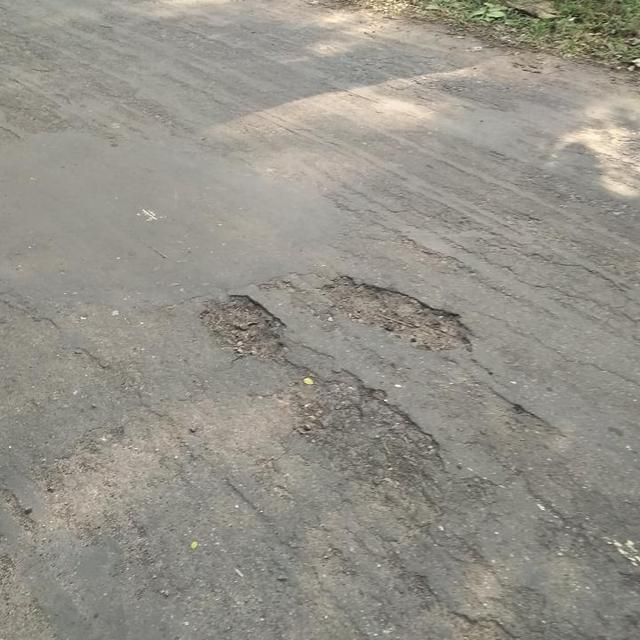Pothole: (284, 370, 447, 490), (316, 271, 476, 353), (196, 292, 289, 364)
